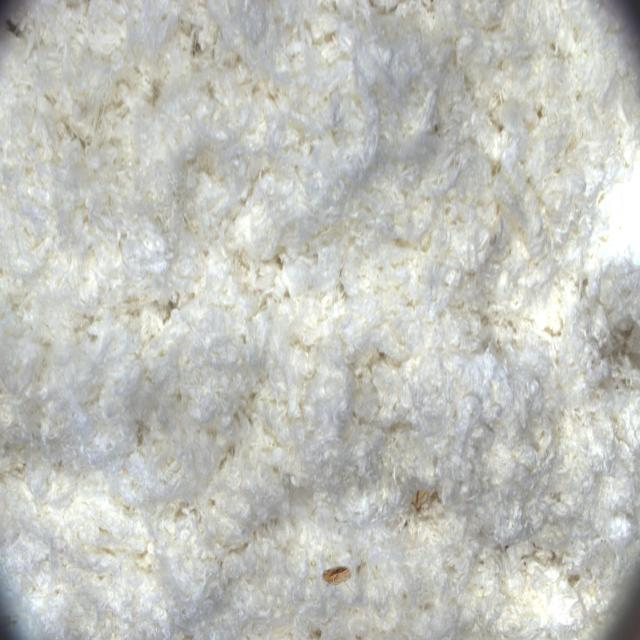dust: (310, 548, 360, 603)
